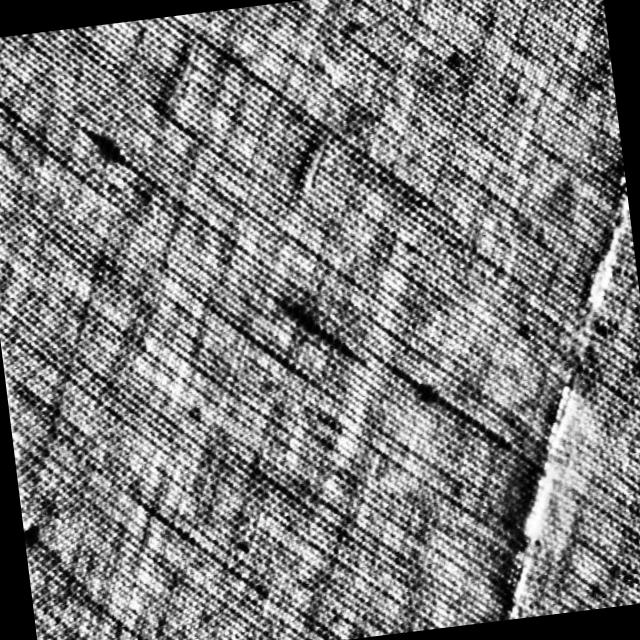gray stitch: (444, 192, 640, 616)
